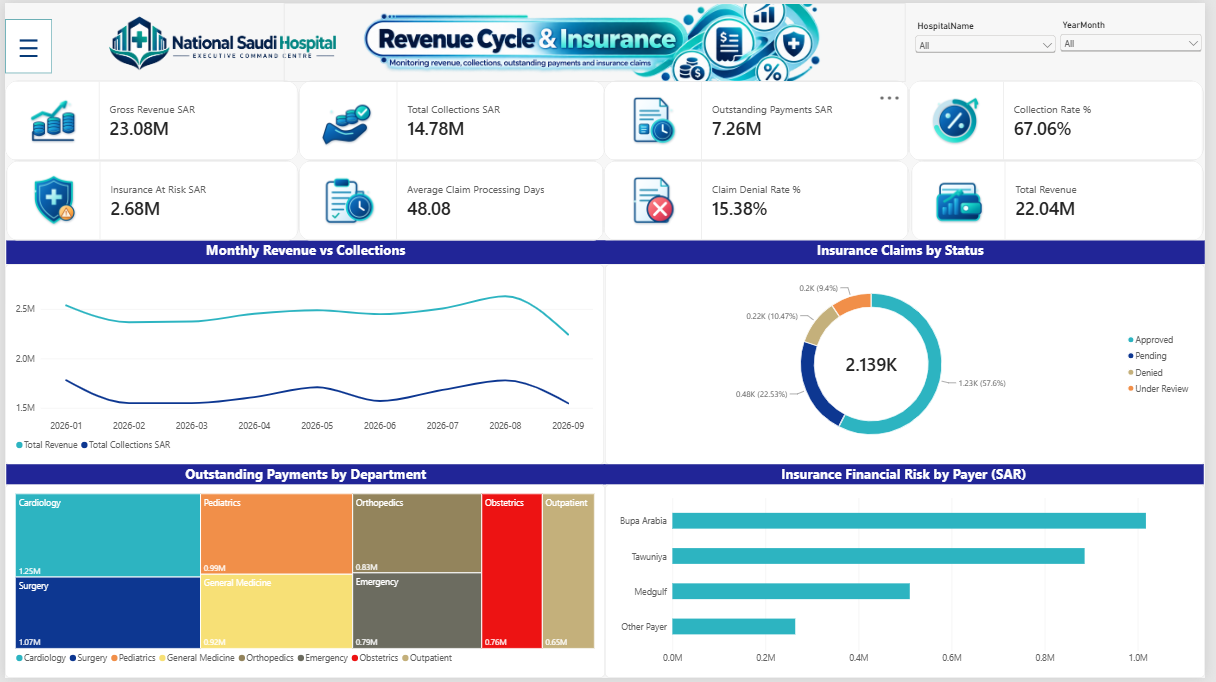

This screenshot's page, from the dashboard's own definition file:
{"tool":"powerbi","page":{"name":"Revenue Cycle & Insurance","canvas":[1920,1080],"ordinal":2},"visuals":[{"type":"cardVisual","fields":{"Data":["tblInvoices.Total Collections SAR"]},"box":[469.8,123.1,490.3,128.6],"z":0},{"type":"cardVisual","fields":{"Data":["tblInvoices.Outstanding Payments SAR"]},"box":[958.3,123.1,488.5,128.6],"z":1000},{"type":"cardVisual","fields":{"Data":["tblInvoices.Claim Denial Rate %"]},"box":[958.3,251.7,488.5,128.6],"z":2000},{"type":"cardVisual","fields":{"Data":["tblInvoices.Total Revenue"]},"box":[1450.5,251.7,468,128.6],"z":3000},{"type":"cardVisual","fields":{"Data":["tblInvoices.Collection Rate %"]},"box":[1446.8,123.1,471.7,128.6],"z":4000},{"type":"cardVisual","title":"Monthly Patient Visits","fields":{"Data":["tblInvoices.Gross Revenue SAR"]},"box":[0,123.1,469.8,128.6],"z":5000},{"type":"image","box":[135.1,0,423.5,128.5],"z":6000},{"type":"slicer","fields":{"Values":["tblHospitals.HospitalName"]},"box":[1451.3,29,233.4,106.8],"z":7000},{"type":"slicer","fields":{"Values":["DimDate.YearMonth"]},"box":[1684.7,25.3,235.3,86.9],"z":8000},{"type":"lineChart","fields":{"Category":["DimDate.YearMonth"],"Y":["tblInvoices.Total Revenue","tblInvoices.Total Collections SAR"]},"box":[0,417.6,958.3,320.7],"z":9000},{"type":"donutChart","fields":{"Category":["Claims.ClaimStatus"],"Y":["CountNonNull(Claims.ClaimID)"]},"box":[960.2,417.6,960.2,320.7],"z":10000},{"type":"treemap","fields":{"Group":["tblDepartments.DepartmentName"],"Values":["tblInvoices.Outstanding Payments SAR"]},"box":[0,770,960.2,309.5],"z":11000},{"type":"clusteredBarChart","fields":{"Category":["Claims.Payer"],"Y":["Claims.Insurance At Risk SAR"]},"box":[960.2,770,960.2,309.5],"z":12000},{"type":"textbox","box":[1.9,380.3,958.3,37.3],"z":13000},{"type":"textbox","box":[945.3,380.3,973.2,37.3],"z":14000},{"type":"textbox","box":[1.9,738.3,958.3,31.7],"z":15000},{"type":"textbox","box":[958.3,738.3,960.2,31.7],"z":16000},{"type":"cardVisual","title":"Monthly Patient Visits","fields":{"Data":["Claims.Average Claim Processing Days"]},"box":[469.8,251.7,488.5,128.6],"z":17000},{"type":"cardVisual","title":"Monthly Patient Visits","fields":{"Data":["Claims.Insurance At Risk SAR"]},"box":[1.9,251.7,468,128.6],"z":18000},{"type":"image","box":[445.6,0,993.7,126.8],"z":19000},{"type":"shape","box":[0,26.6,75.5,86.5],"z":21000}]}

Visuals, with their boxes in screenshot pixels (x1, y1, x2, y2), scaled from the page's 1920x1080 canvas onto the 1216x682 screenshot:
cardVisual - tblInvoices.Total Collections SAR: detection(298, 78, 608, 159)
cardVisual - tblInvoices.Outstanding Payments SAR: detection(607, 78, 916, 159)
cardVisual - tblInvoices.Claim Denial Rate %: detection(607, 159, 916, 240)
cardVisual - tblInvoices.Total Revenue: detection(919, 159, 1215, 240)
cardVisual - tblInvoices.Collection Rate %: detection(916, 78, 1215, 159)
"Monthly Patient Visits" cardVisual: detection(0, 78, 298, 159)
image: detection(86, 0, 354, 81)
slicer - tblHospitals.HospitalName: detection(919, 18, 1067, 86)
slicer - DimDate.YearMonth: detection(1067, 16, 1215, 71)
lineChart - DimDate.YearMonth x tblInvoices.Total Revenue: detection(0, 264, 607, 466)
donutChart - Claims.ClaimStatus x CountNonNull(Claims.ClaimID): detection(608, 264, 1215, 466)
treemap - tblDepartments.DepartmentName x tblInvoices.Outstanding Payments SAR: detection(0, 486, 608, 681)
clusteredBarChart - Claims.Payer x Claims.Insurance At Risk SAR: detection(608, 486, 1215, 681)
textbox: detection(1, 240, 608, 264)
textbox: detection(599, 240, 1215, 264)
textbox: detection(1, 466, 608, 486)
textbox: detection(607, 466, 1215, 486)
"Monthly Patient Visits" cardVisual: detection(298, 159, 607, 240)
"Monthly Patient Visits" cardVisual: detection(1, 159, 298, 240)
image: detection(282, 0, 912, 80)
shape: detection(0, 17, 48, 71)
